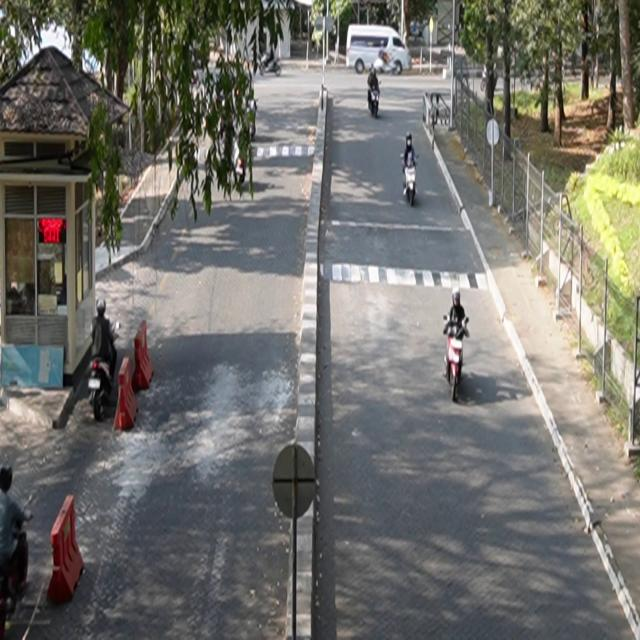truck: (346, 24, 413, 76)
